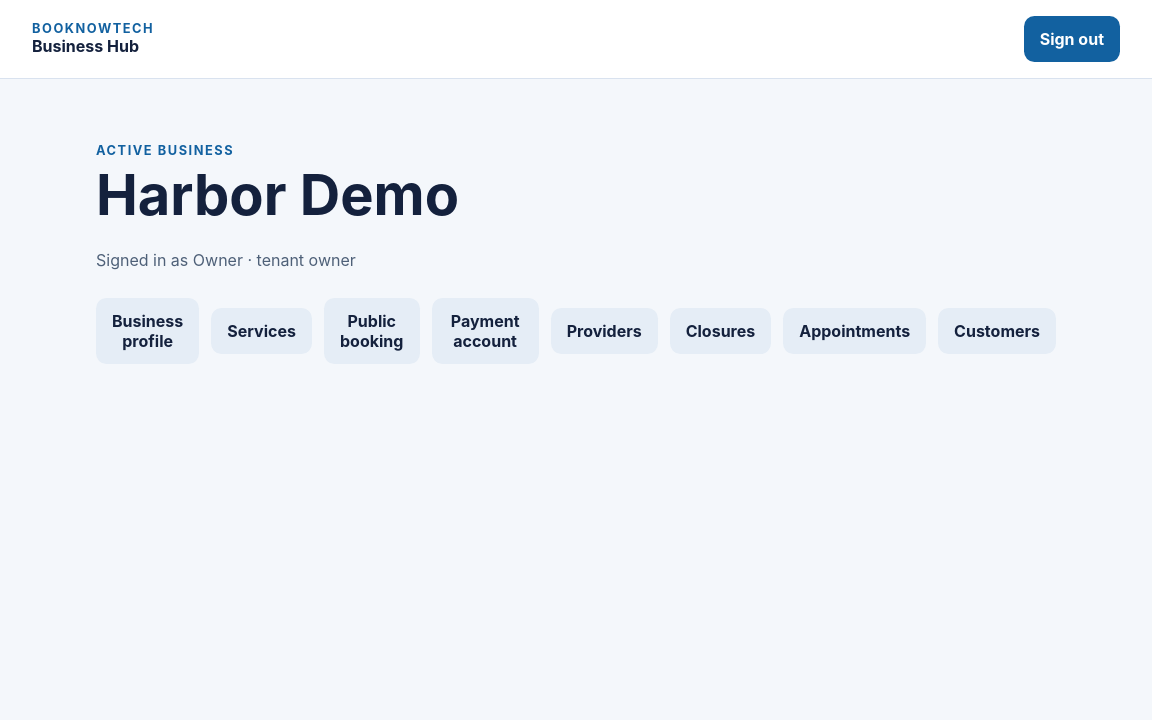
Test: Business Hub › signs out without declaring an empty JSON body
What coordinates should you click on to do the following:
click the button "Sign out"
I would click on:
 (1072, 39)
Its box is [1024,16,1120,62].
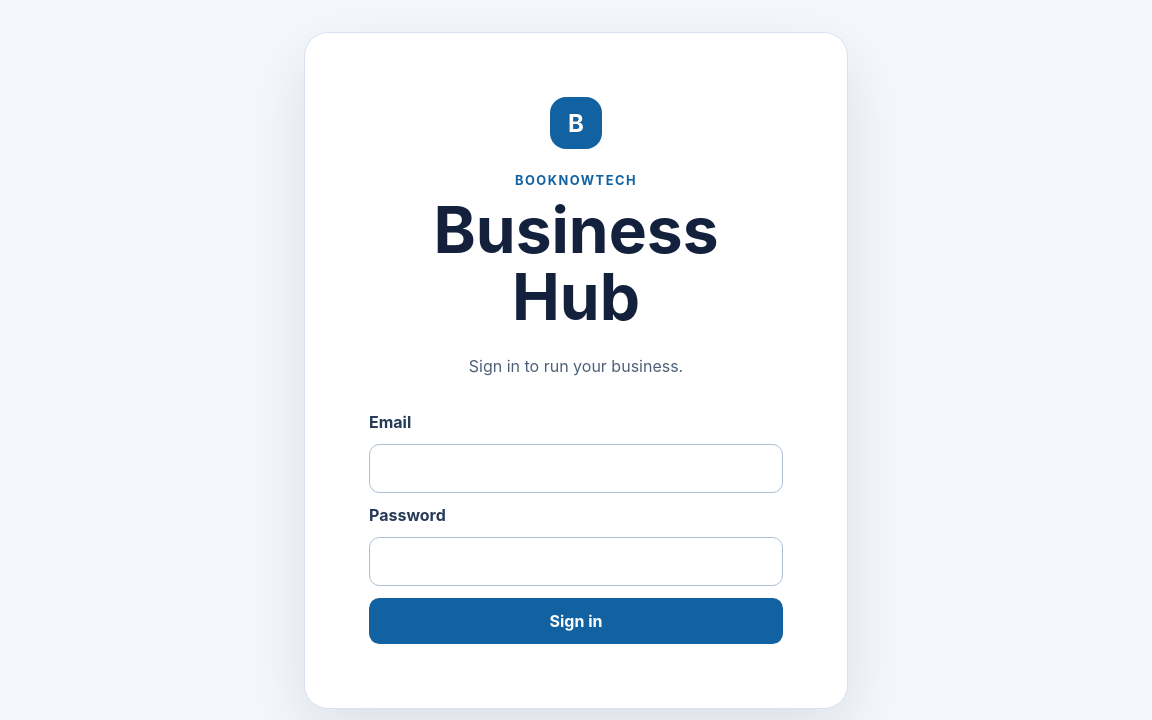
Expected: the button "Sign in" is shown, [369,598,783,644]
